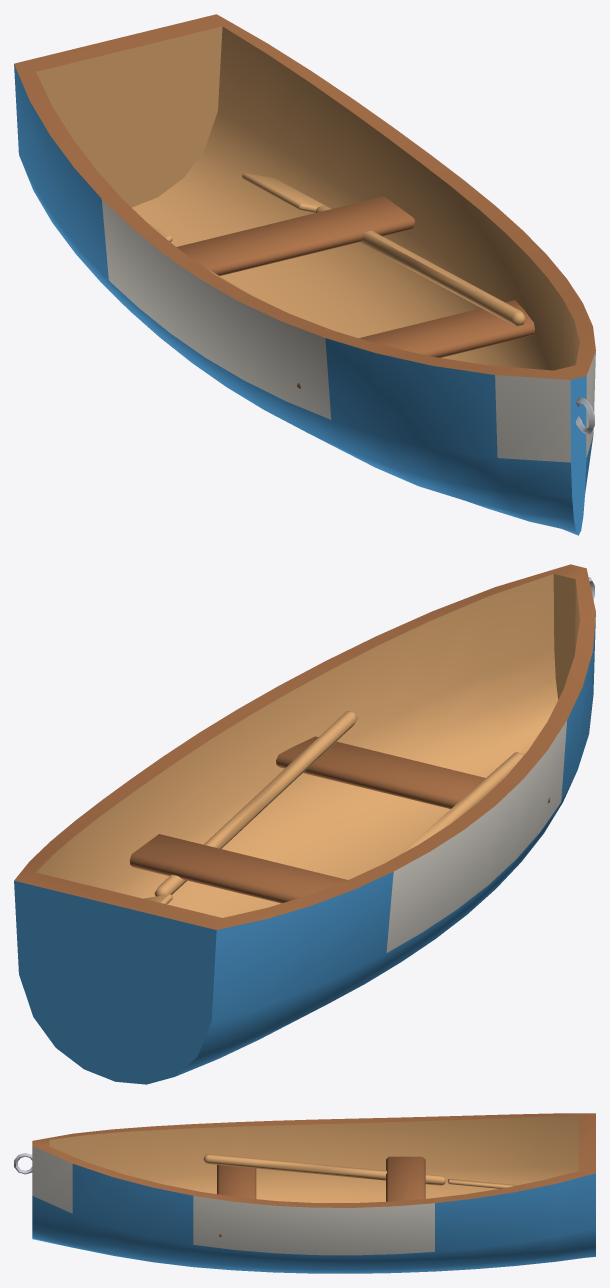
The model's file is boat_wood.glb.
3 renders of one model, top to bottom at view 1: azimuth 30°, elevation 25°; view 2: azimuth 150°, elevation 25°; view 3: azimuth 270°, elevation 25°, orthographic. The views are drawn at different scales.
Parts seen in each view (by area): view 1: boat_wood; view 2: boat_wood; view 3: boat_wood.
Boxes of the visible parts, left/top/right/bottom form: boat_wood: left=14, top=14, right=595, bottom=535; boat_wood: left=14, top=564, right=595, bottom=1084; boat_wood: left=14, top=1113, right=595, bottom=1273.
Size of the model in its own units: 1.5 by 0.9 by 4.13.
